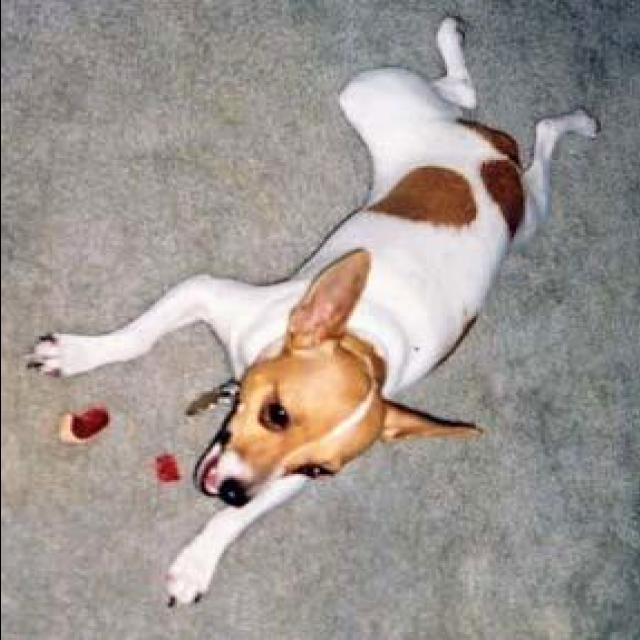toy_terrier: (16, 16, 604, 610)
